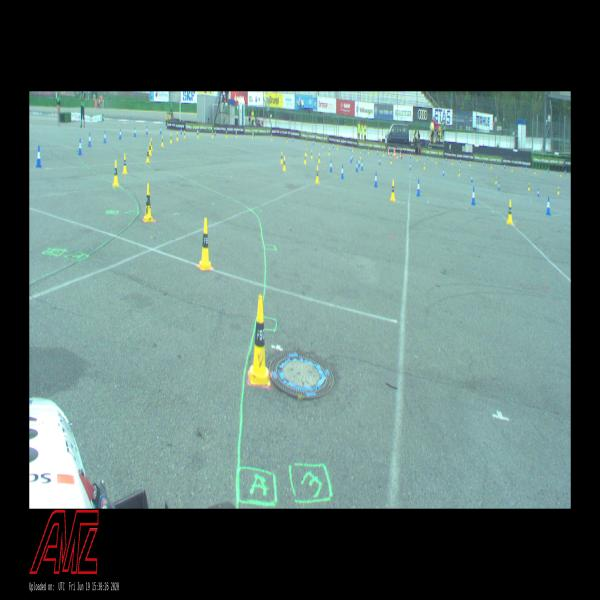blue_cone: (545, 196, 551, 216), (36, 146, 41, 168), (471, 185, 476, 206), (77, 137, 82, 156), (416, 178, 421, 197), (88, 132, 92, 148), (103, 130, 107, 144), (374, 171, 377, 188), (119, 128, 122, 140), (378, 156, 381, 167), (341, 164, 343, 179), (330, 158, 332, 173), (537, 188, 540, 198), (133, 126, 136, 136), (442, 168, 445, 177), (356, 160, 358, 171), (146, 126, 148, 136), (361, 160, 363, 170), (498, 181, 500, 191), (350, 154, 352, 164), (351, 152, 353, 162), (471, 174, 473, 183), (409, 162, 411, 171), (180, 127, 182, 136), (358, 158, 360, 167), (160, 126, 162, 134), (214, 129, 216, 137), (377, 149, 379, 156), (547, 168, 549, 174), (445, 156, 447, 162), (427, 155, 429, 161), (564, 170, 566, 174), (483, 160, 484, 168), (526, 166, 527, 172), (504, 164, 505, 170), (460, 158, 461, 164), (410, 153, 411, 159)
large_orange_cone: (393, 149, 395, 158)
yellow_cone: (248, 294, 271, 387), (198, 217, 214, 271), (143, 182, 154, 224), (112, 159, 120, 188), (506, 199, 513, 226), (390, 178, 396, 202), (122, 154, 128, 176), (315, 165, 320, 184), (146, 147, 150, 163), (282, 156, 286, 172), (149, 141, 152, 156), (280, 150, 283, 163), (161, 136, 164, 146), (183, 130, 186, 140), (176, 132, 179, 142), (557, 185, 560, 195), (151, 137, 153, 151), (528, 181, 530, 192), (170, 133, 172, 144), (490, 162, 493, 169), (458, 168, 460, 178), (304, 155, 306, 165), (311, 150, 313, 160), (328, 148, 330, 157), (360, 151, 362, 160), (495, 176, 497, 184), (390, 157, 392, 165), (469, 160, 471, 168), (305, 148, 307, 156), (318, 154, 320, 162), (451, 158, 453, 166), (226, 130, 228, 138), (423, 162, 425, 170), (435, 157, 437, 165), (352, 146, 354, 154), (197, 130, 199, 138), (337, 143, 339, 151), (322, 142, 324, 150), (416, 156, 418, 163), (511, 166, 513, 173), (382, 150, 384, 157), (534, 169, 536, 175), (252, 130, 253, 140), (212, 130, 213, 138), (236, 132, 237, 140), (560, 171, 561, 178), (368, 149, 369, 155)
